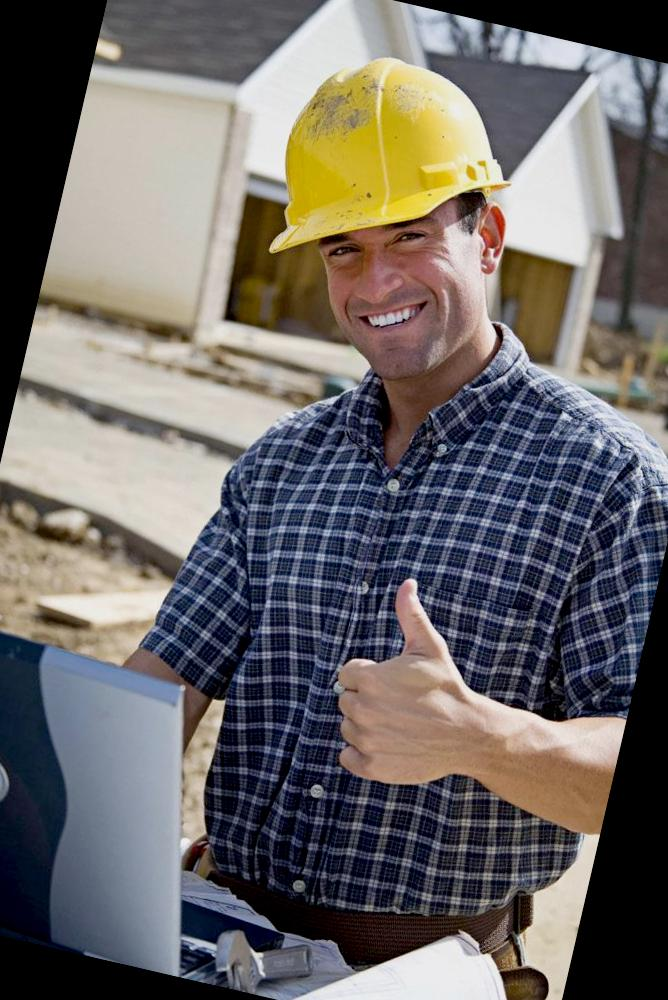helmet: (248, 34, 542, 316)
no_vest: (150, 382, 668, 950)
person: (72, 26, 668, 1000)
